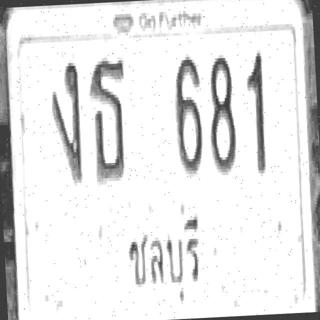A07: (49, 60, 84, 184)
A24: (87, 54, 130, 182)
N01: (245, 50, 268, 174)
N06: (173, 54, 204, 174)
N08: (205, 50, 238, 174)
P13: (120, 204, 206, 313)
